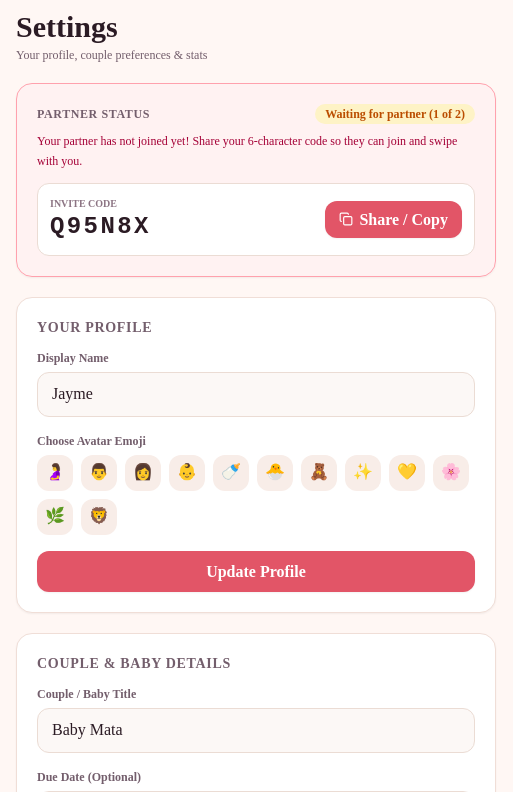
it: SettingsTab › shows profile save errors and does not claim the profile was saved
Click the button "Update Profile" at point(256, 571), box [37,551,475,592]
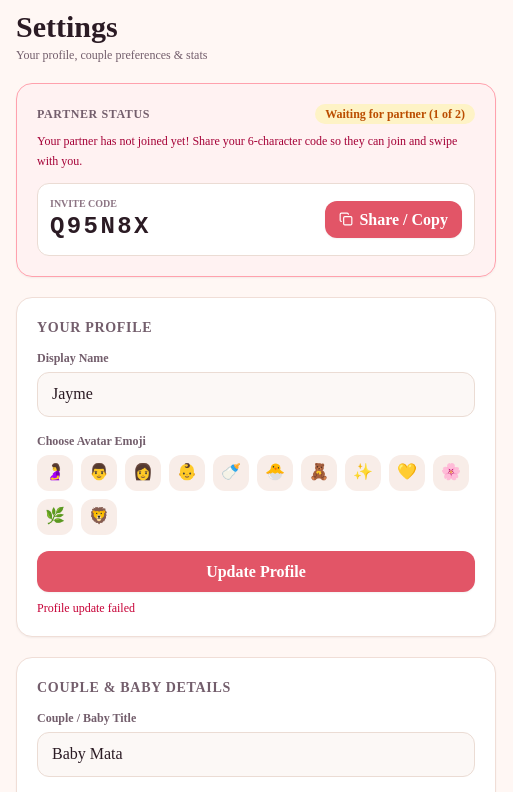
Expected: the message reads "Profile update failed", [37,601,135,615]
